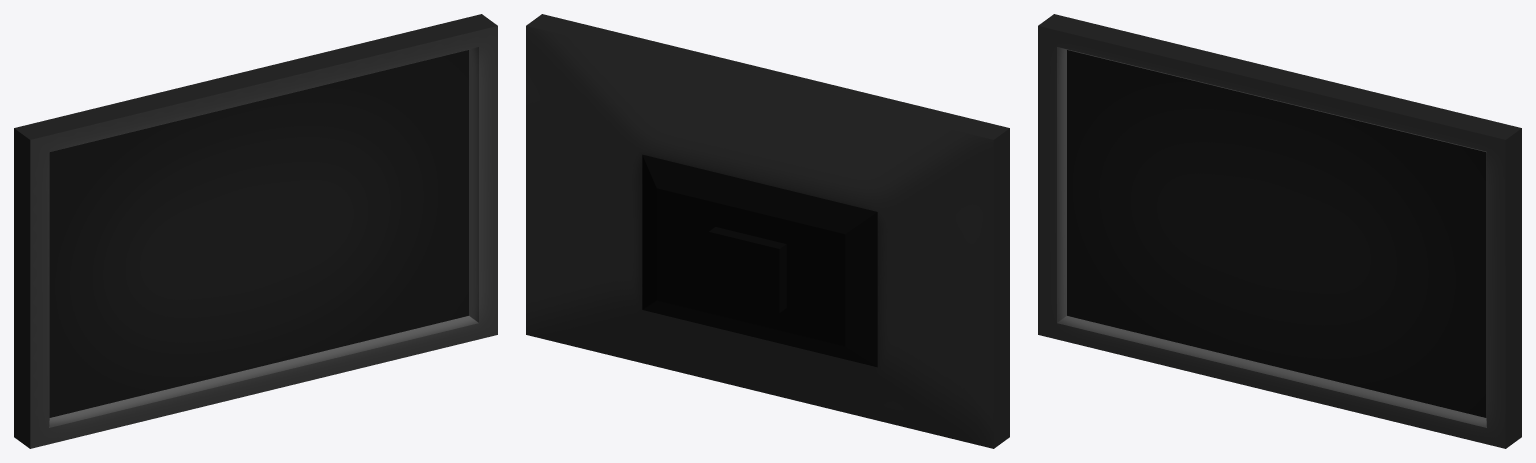
The picture shows the model from 3 angles, left to right: view 1: azimuth 30°, elevation 25°; view 2: azimuth 150°, elevation 25°; view 3: azimuth 330°, elevation 25°; orthographic projection.
Parts seen in each view (by area): view 1: moniter0 001; view 2: moniter0 001; view 3: moniter0 001.
Boxes of the visible parts, left/top/right/bottom form: moniter0 001: left=14, top=14, right=497, bottom=448; moniter0 001: left=526, top=14, right=1009, bottom=448; moniter0 001: left=1038, top=14, right=1521, bottom=448.
Size of the model in its own units: 26 by 16.41 by 3.06.
Materials: 1 (1 with a texture image).
